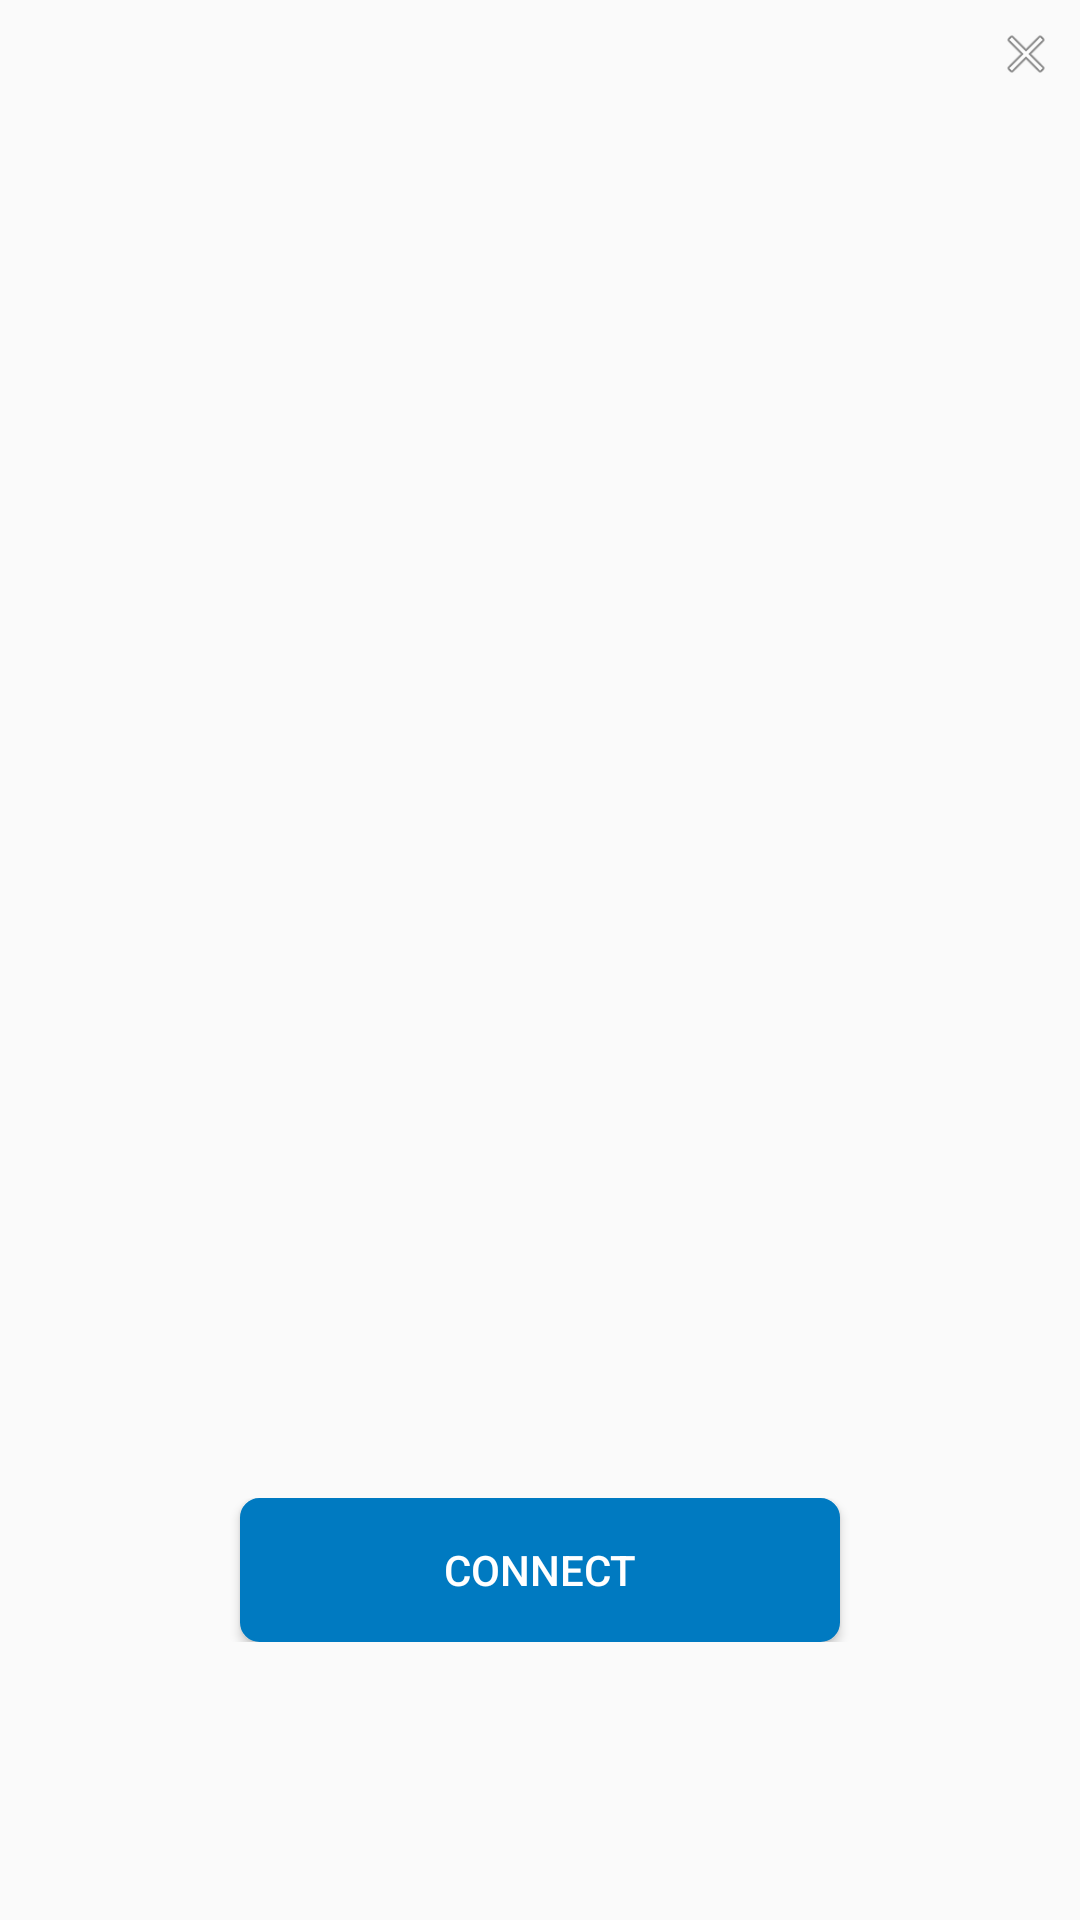

Locate icon controls on the screen. Image size 1080*1920, boxes as {"left": x1, "top": y1, "right": x2, "bottom": y2}.
close clear cancel: {"left": 1007, "top": 35, "right": 1045, "bottom": 73}
